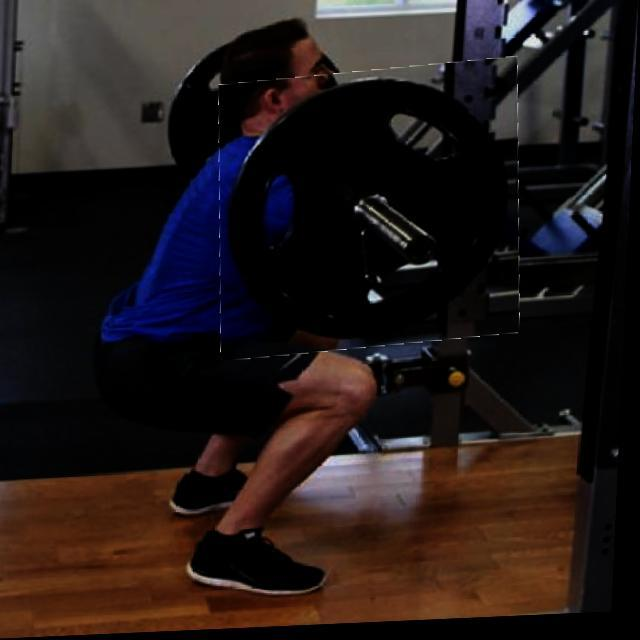barbell: (215, 66, 529, 361)
